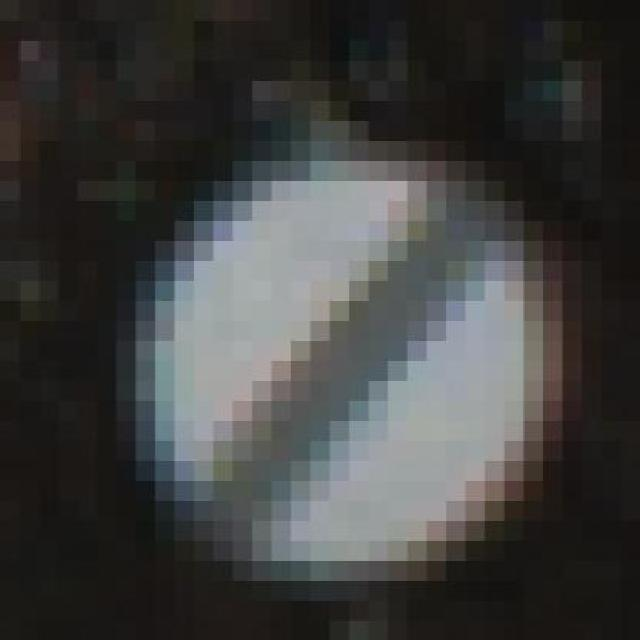End of all speed and passing limits: (97, 160, 581, 580)
